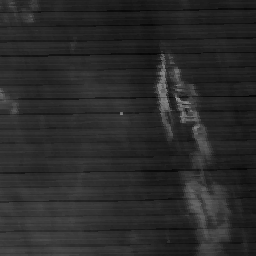Target: (118, 110, 125, 116)
